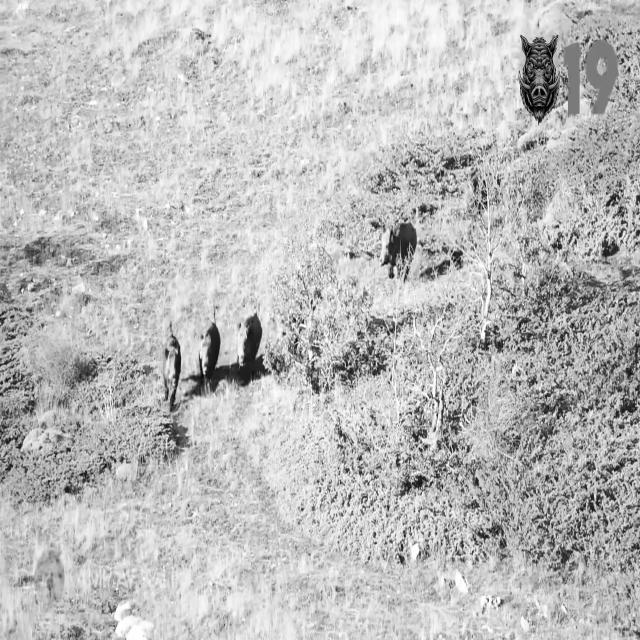boar: (518, 35, 559, 123), (381, 221, 417, 279), (162, 321, 181, 410), (237, 312, 261, 370), (198, 322, 220, 378)
